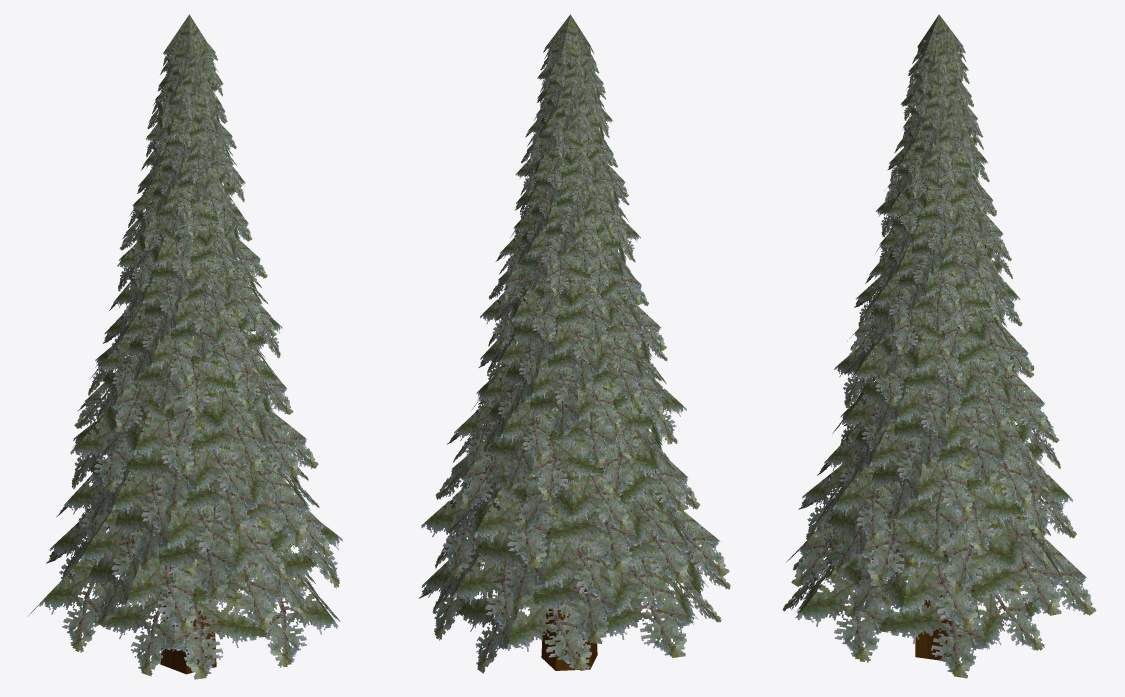
File: tree.glb
3 renders of one model, left to right at view 1: azimuth 30°, elevation 25°; view 2: azimuth 150°, elevation 25°; view 3: azimuth 270°, elevation 25°, orthographic.
Visible parts, largest first — view 1: Cone; view 2: Cone; view 3: Cone.
Part boxes in pixels (bbox=[...]): Cone: bbox=[28, 14, 342, 679]; Cone: bbox=[419, 14, 730, 673]; Cone: bbox=[782, 14, 1096, 678].
Size of the model in its own units: 6.11 by 12 by 5.78.
Materials: 2 (2 with a texture image).
